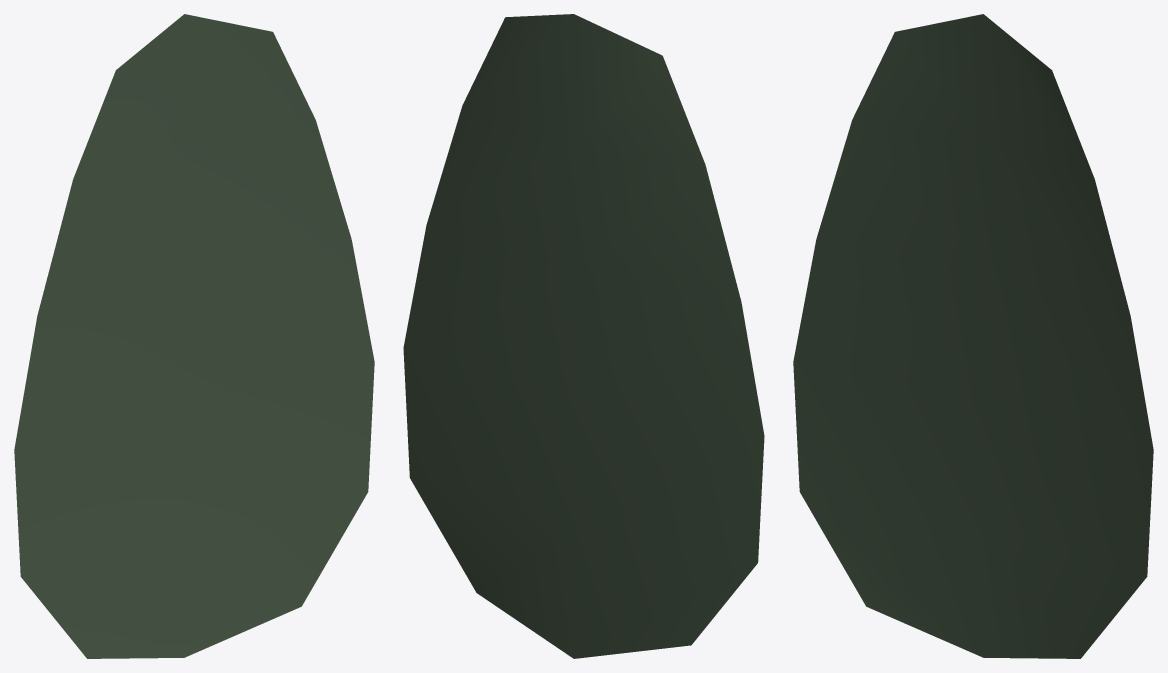
File: duck_feather_flight_tertiary_034.obj
3 renders of one model, left to right at view 1: azimuth 30°, elevation 25°; view 2: azimuth 150°, elevation 25°; view 3: azimuth 330°, elevation 25°, orthographic.
Parts seen in each view (by area): view 1: feather_flight_tertiary_034; view 2: feather_flight_tertiary_034; view 3: feather_flight_tertiary_034.
Boxes of the visible parts, x1,y1,x2,y2 form: feather_flight_tertiary_034: (14, 14, 374, 658); feather_flight_tertiary_034: (403, 14, 764, 658); feather_flight_tertiary_034: (793, 14, 1153, 658).
Bounding box in the file's own units: 0.0131 × 0.0224 × 0.000633.
